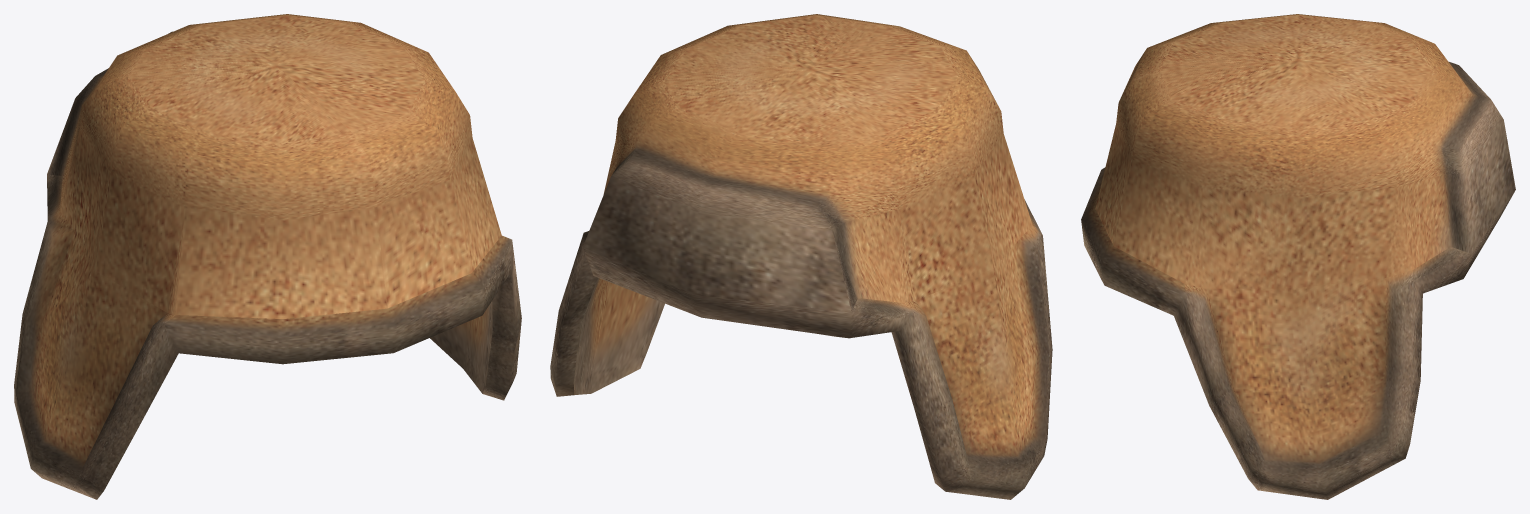
Rendered from EarFlapsHat.FBX.
3 views of the same model, side by side, from view 1: azimuth 30°, elevation 25°; view 2: azimuth 150°, elevation 25°; view 3: azimuth 270°, elevation 25° (orthographic). The views are drawn at different scales.
Parts seen in each view (by area): view 1: Cylinder001; view 2: Cylinder001; view 3: Cylinder001.
Part boxes in pixels (x1=…): Cylinder001: x1=14, y1=14, x2=521, y2=499; Cylinder001: x1=550, y1=14, x2=1052, y2=499; Cylinder001: x1=1081, y1=14, x2=1515, y2=499.
Bounding box in the file's own units: 156 × 119 × 138.
